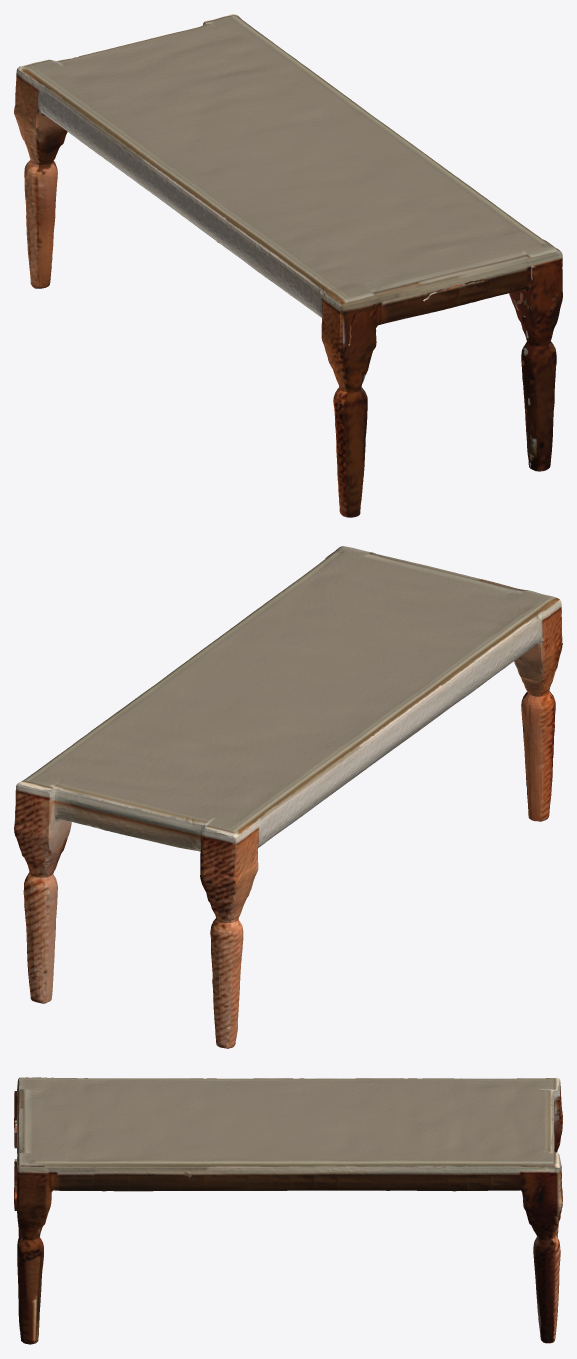
3 renders of one model, top to bottom at view 1: azimuth 30°, elevation 25°; view 2: azimuth 150°, elevation 25°; view 3: azimuth 270°, elevation 25°, orthographic. The views are drawn at different scales.
Parts seen in each view (by area): view 1: world; view 2: world; view 3: world.
Part boxes in pixels (<box>): world: <box>14,14,562,517</box>; world: <box>14,546,562,1048</box>; world: <box>14,1077,562,1344</box>.
Bounding box in the file's own units: 0.3904 × 0.3674 × 0.9906.
Materials: 1 (1 with a texture image).
